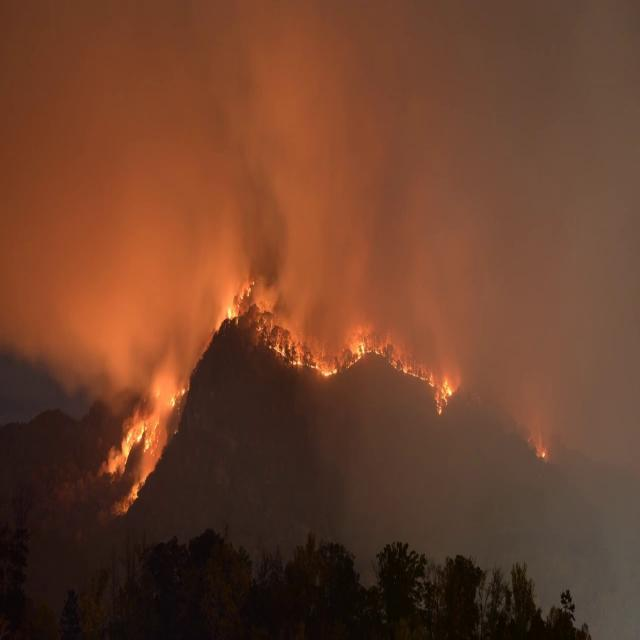Fire: (104, 414, 160, 508), (221, 276, 255, 324), (390, 359, 436, 389), (343, 336, 381, 366), (434, 372, 452, 416), (272, 344, 302, 366), (311, 362, 337, 378), (170, 384, 184, 409), (542, 448, 546, 460)
